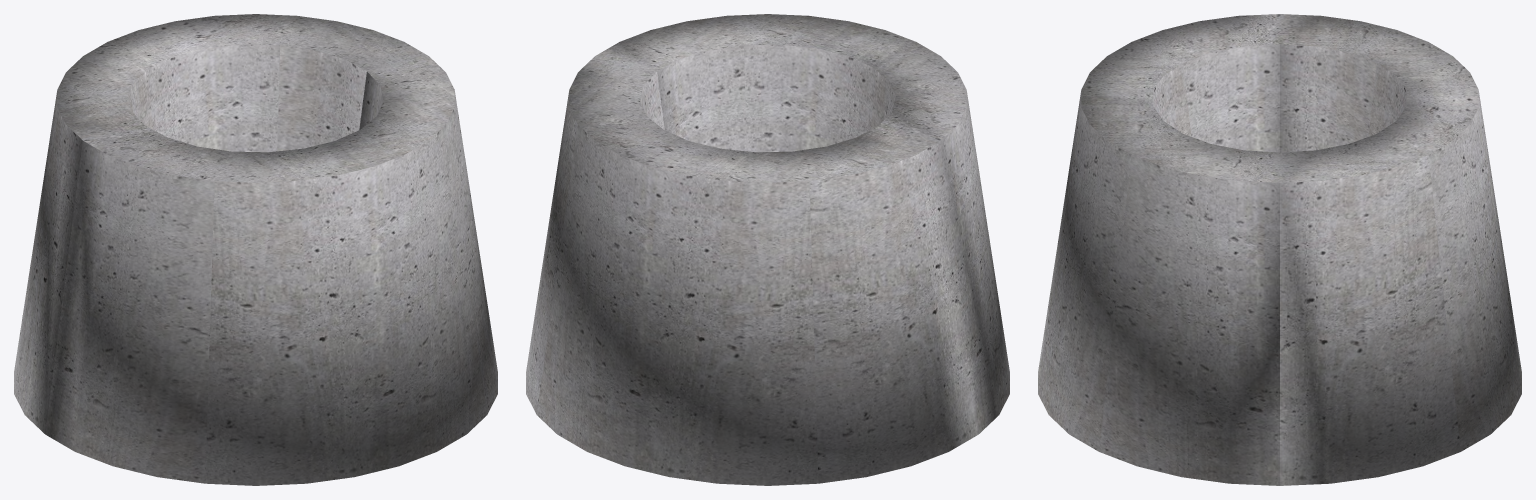
Rendered from PT Plug.glb.
3 renders of one model, left to right at view 1: azimuth 30°, elevation 25°; view 2: azimuth 150°, elevation 25°; view 3: azimuth 270°, elevation 25°, orthographic.
Visible parts, largest first — view 1: IfcBeam/PT Plug; view 2: IfcBeam/PT Plug; view 3: IfcBeam/PT Plug.
Boxes of the visible parts, <box> form: IfcBeam/PT Plug: <box>14,14,497,485</box>; IfcBeam/PT Plug: <box>526,14,1009,485</box>; IfcBeam/PT Plug: <box>1038,14,1521,485</box>.
Size of the model in its own units: 0.0724 by 0.0467 by 0.072.
Materials: 1 (1 with a texture image).
